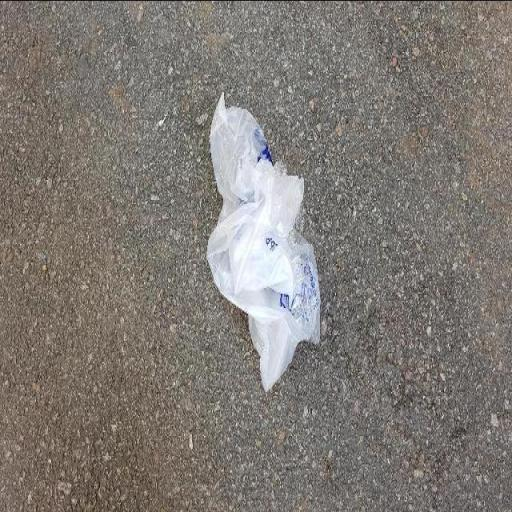plastic-bag: (202, 87, 324, 392)
